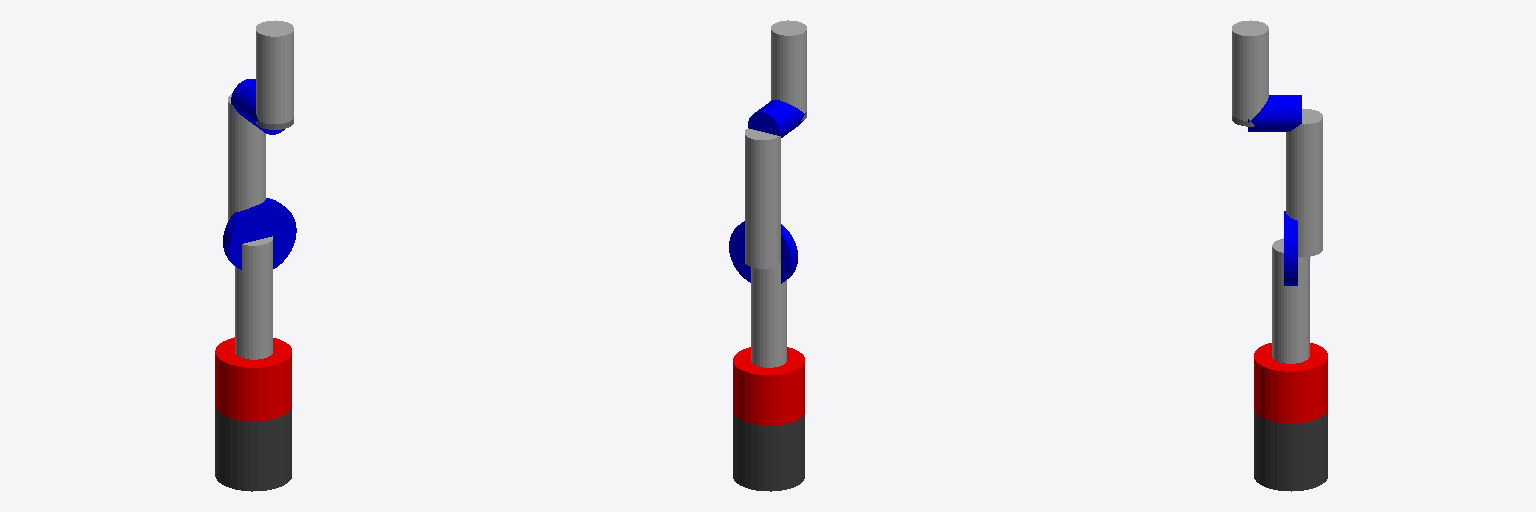
URDF robot description (prototype3):
 <robot name="prototype3">
   <material name="Blue">
      <color rgba="0 0.0 1.0 1.0"/>
    </material>
    <material name="Grey">
      <color rgba="0.5 0.5 0.5 1.0"/>
    </material>
    <material name="LightGrey">
      <color rgba="0.7 0.7 0.7 1.0"/>
    </material>
    <material name="DarkGrey">
      <color rgba="0.3 0.3 0.3 1.0"/>
    </material>
  <link name="base" >
    <visual>
      <origin xyz="0 0 0.1" rpy="0 0 0" />
      <geometry>
        <cylinder length="0.2" radius="0.1"/>
      </geometry>
      <material name="DarkGrey">
      </material>
    </visual>
  </link>
  
  <link name="link1" >
    <visual>
      <origin xyz="0 0 0.27645" rpy="0 0 0" />
      <geometry>
        <cylinder length="0.15290" radius="0.1"/>
      </geometry>
      <material name="Grey">
        <color rgba="1.0 0.0 0.0 1.0"/>
      </material>
    </visual>
  </link>   

  <link name="link2" >
    <visual>
      <origin xyz="0 0.1625 0" rpy="1.5708 0 0" />
      <geometry>
        <cylinder length="0.32500" radius="0.05"/>  <!-- 0.478 -->
      </geometry>
      <material name="LightGrey">
      </material>
    </visual>
  </link>   

  <link name="link3" >
    <visual>
      <origin xyz="0 -0.0178 0" rpy="0 0 0" />
      <geometry>
        <cylinder length="0.03560" radius="0.1"/>
      </geometry>
      <material name="Blue">
      </material>
    </visual>
    <inertial>
      <origin
        xyz="0.0 0.0 0.0"
        rpy="0 0 0" />
      <mass
         value="7.0" />  <!--8.0-->
      <inertia
        ixx="0.0"
        ixy="0.0"
        ixz="0.0"
        iyy="0.0"
        iyz="0.0"
        izz="0.0" />
    </inertial>
  </link>   
  
  <link name="link4" >
    <visual>
      <origin xyz="0 0 0.18525" rpy="0 0 0" />
      <geometry>
        <cylinder length="0.39050" radius="0.05"/>
      </geometry>
      <material name="LightGrey">
      </material>
      </visual>
          <inertial>
        <origin
          xyz="0.0 0.0 0.0"
          rpy="0 0 0" />
        <mass
          value="2.0" />   <!--2.0-->
        <inertia
          ixx="0.0"
          ixy="0.0"
          ixz="0.0"
          iyy="0.0"
          iyz="0.0"
          izz="0.0" />
      </inertial>
  </link>    
  
  <link name="link5" >
    <visual>
      <origin xyz="0 0 0.07725" rpy="0 0 0" />
      <geometry>
        <cylinder length="0.14450" radius="0.05"/>
      </geometry>
      <material name="Blue">
      </material>
    </visual>
  </link>   
  
  <link name="link6" >
    <visual>
      <origin xyz="0 0 0.125" rpy="0 0 0" />
      <geometry>
        <cylinder length="0.25" radius="0.05"/>
      </geometry>
      <material name="LightGrey">
      </material>
    </visual>
  </link>    
  
  <link name="flange" >
    <visual>
      <origin xyz="0 0 -0.0082" rpy="0 0 0" />
      <geometry>
        <cylinder length="0.01640" radius="0.05"/>
      </geometry>
      <material name="Grey">
      </material>
    </visual>
    <inertial>
      <origin
        xyz="0.0 0.0 0.0"
        rpy="0 0 0" />
      <mass
        value="2.0" />   <!--2.0-->
      <inertia
        ixx="0.0"
        ixy="0.0"
        ixz="0.0"
        iyy="0.0"
        iyz="0.0"
        izz="0.0" />
    </inertial>
  </link>   
  
  <joint name="flange_joint" type="fixed">
    <origin xyz="0 0 0" rpy="0 -0 0" />
    <axis xyz="0 0 1" />
    <parent link="link6" />
    <child link="flange" />
  </joint>
  
  <joint name="joint_1" type="revolute">
    <origin xyz="0 0 0" rpy="0 -0 0" />
    <axis xyz="0 0 1" />
    <parent link="base" />
    <child link="link1" />
    <limit effort="90" velocity="1.0" lower="-2.9" upper="2.9" />
  </joint>
  <joint name="joint_2" type="revolute">
    <origin xyz="0 0 0.3529" rpy="1.5708 -0 0" />
    <axis xyz="0 0 1" />
    <parent link="link1" />
    <child link="link2" />
    <limit effort="90" velocity="1.0" lower="-2.1" upper="2.1" />
  </joint>
  <joint name="joint_3" type="revolute">
    <origin xyz="0 0.325 0" rpy="0 -0 1.5708" />
    <axis xyz="0 0 1" />
    <parent link="link2" />
    <child link="link3" />
    <limit effort="51" velocity="0.5" lower="-2.9" upper="2.9" />
  </joint>
  <joint name="joint_4" type="revolute">
    <origin xyz="0 0 -0.0356" rpy="1.5708 -0 1.5708" />
    <axis xyz="0 0 1" />
    <parent link="link3" />
    <child link="link4" />
    <limit effort="51" velocity="0.5" lower="-2.9" upper="2.9" />
  </joint>
  <joint name="joint_5" type="revolute">
    <origin xyz="0 0 0.3905" rpy="1.5708 -4.23516e-22 -3.14159" />
    <axis xyz="0 0 1" />
    <parent link="link4" />
    <child link="link5" />
    <limit effort="51" velocity="0.5" lower="-2.5" upper="2.5" />
  </joint>
  <joint name="joint_6" type="revolute">
    <origin xyz="0 0 0.1445" rpy="-1.5708 0 0" />
    <axis xyz="0 0 1" />
    <parent link="link5" />
    <child link="link6" />
    <limit effort="51" velocity="0.5" lower="-2.9" upper="2.9" />
  </joint>
  
</robot>

--- Render facts (derived) ---
3 views of the same robot in one strip: view 1: azimuth 30°, elevation 25°; view 2: azimuth 150°, elevation 25°; view 3: azimuth 270°, elevation 25° (orthographic).
Model prototype3 with 8 links and 7 joints (6 revolute, 1 fixed), rooted at base, posed all joints at 0.
Links seen in each view (by area): view 1: base, link1, link2, link6, link4, link3, link5; view 2: link4, base, link1, link2, link6, link3, link5; view 3: base, link1, link4, link2, link6, link5, link3.
Boxes of the visible links, <box> form: base: <box>215,407,291,491</box>; link1: <box>215,337,291,420</box>; link2: <box>235,236,272,359</box>; link6: <box>256,20,293,123</box>; link4: <box>228,94,265,220</box>; link3: <box>223,198,296,269</box>; link5: <box>231,79,284,134</box>; link4: <box>745,128,780,268</box>; base: <box>733,413,804,491</box>; link1: <box>733,347,804,425</box>; link2: <box>751,263,786,367</box>; link6: <box>771,20,806,113</box>; link3: <box>729,221,797,283</box>; link5: <box>748,100,805,137</box>; base: <box>1254,411,1327,491</box>; link1: <box>1254,343,1327,423</box>; link4: <box>1286,109,1322,256</box>; link2: <box>1272,238,1309,363</box>; link6: <box>1232,20,1268,120</box>; link5: <box>1248,95,1301,131</box>; link3: <box>1284,211,1297,285</box>.
Size in the robot's own frame: 0.2178 by 0.2589 by 1.32 metres.
Geometry: primitives only (box / cylinder / sphere), no mesh files.